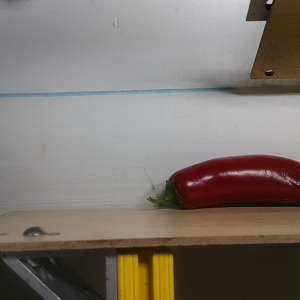Cut Point: (160, 172, 195, 211)
